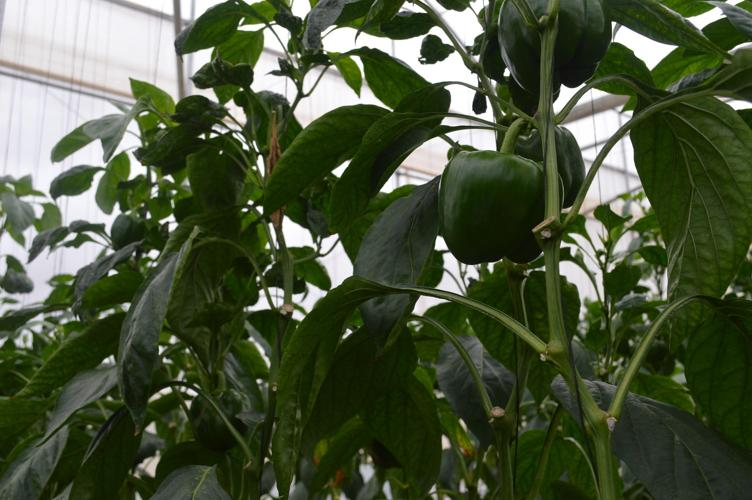BellPepper: (432, 141, 552, 276), (496, 1, 608, 108), (505, 111, 592, 212)
